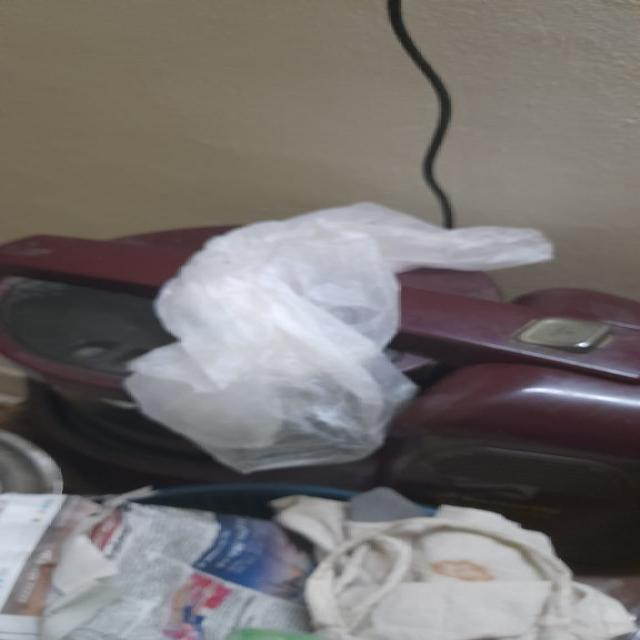Plastic - Recyclable: (93, 177, 572, 493)
